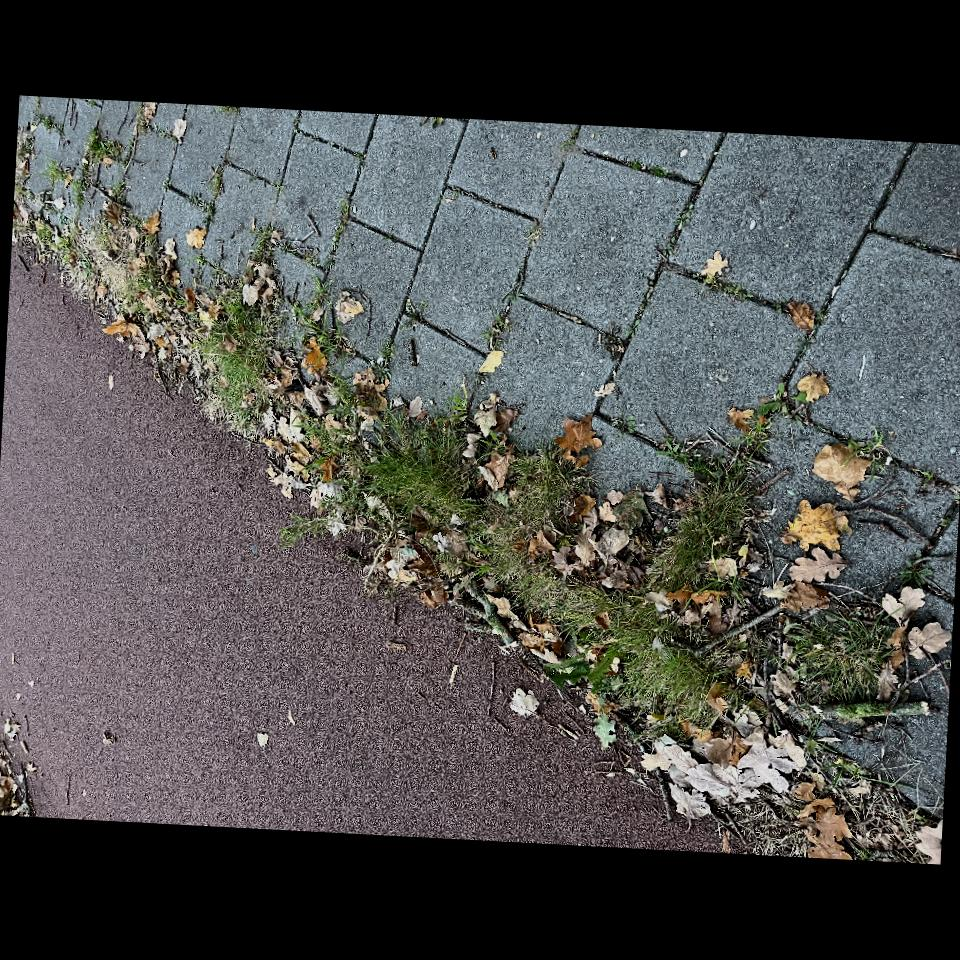weed: (233, 475, 416, 699), (114, 676, 248, 835), (243, 765, 367, 865), (402, 307, 539, 386), (507, 236, 590, 305), (371, 820, 435, 896), (629, 185, 705, 235), (138, 903, 224, 947), (553, 144, 614, 203), (357, 770, 403, 838)
